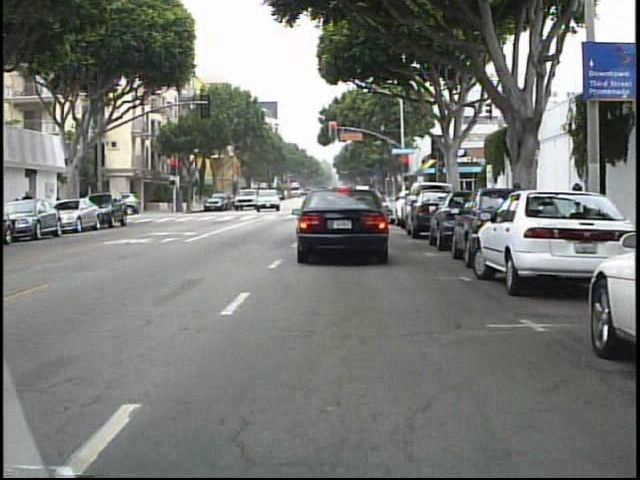person: (21, 187, 38, 230), (126, 189, 142, 218)
